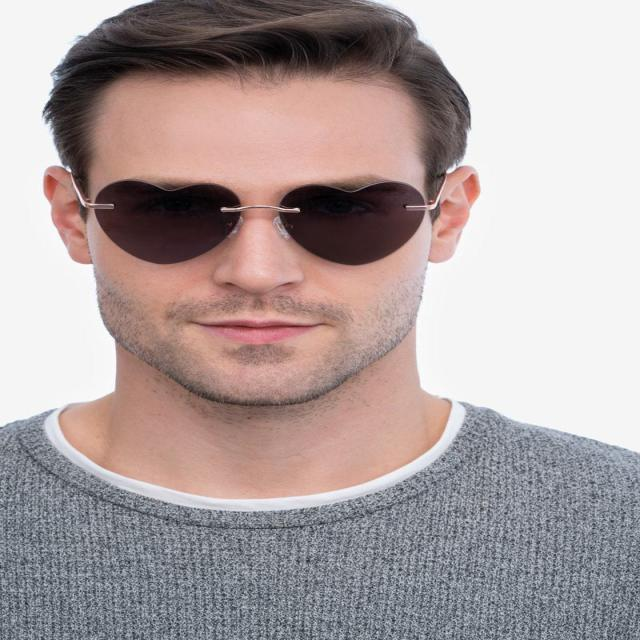2_gafas: (69, 171, 447, 267)
